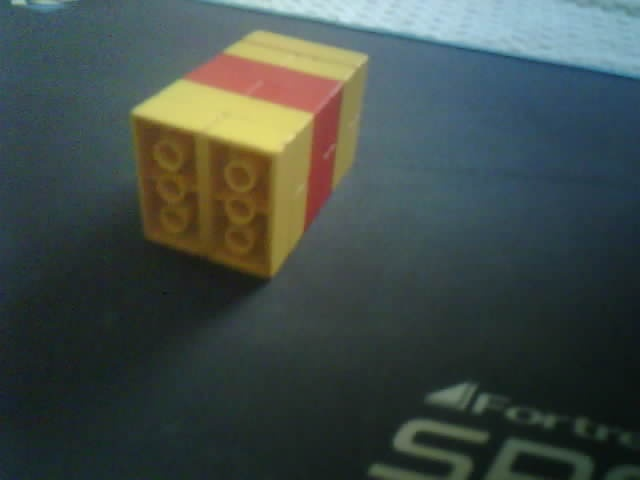lego: (129, 27, 369, 281)
